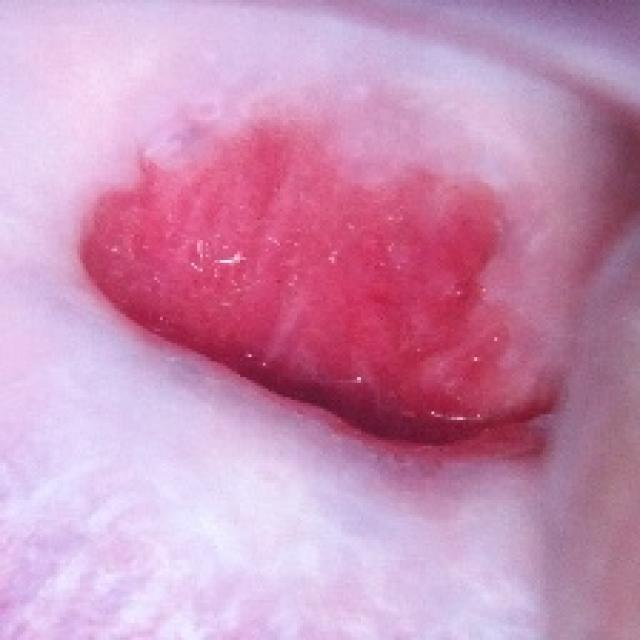type-2: (26, 64, 621, 640)
